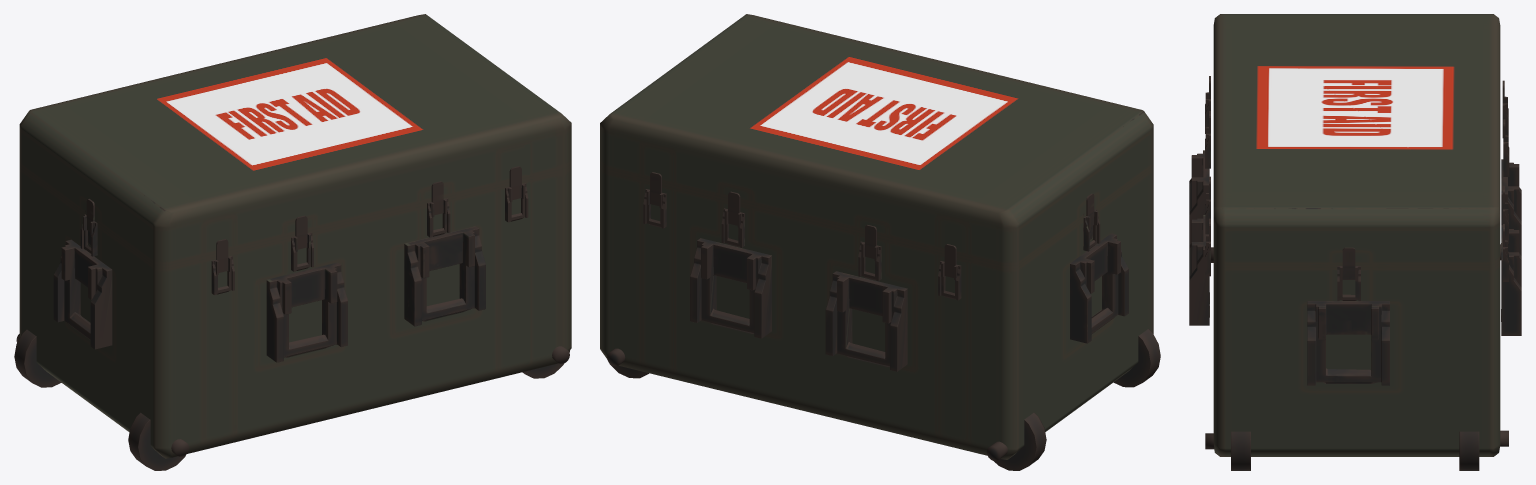
File: healthkit.glb
3 views of the same model, side by side, from view 1: azimuth 30°, elevation 25°; view 2: azimuth 150°, elevation 25°; view 3: azimuth 270°, elevation 25° (orthographic).
Visible parts, largest first — view 1: Cube; view 2: Cube; view 3: Cube.
Part boxes in pixels (left/top/right/bottom): Cube: left=14, top=14, right=571, bottom=470; Cube: left=600, top=14, right=1160, bottom=470; Cube: left=1189, top=14, right=1521, bottom=470.
Size of the model in its own units: 88.46 by 49.67 by 56.22.
1 material, 1 textured.
